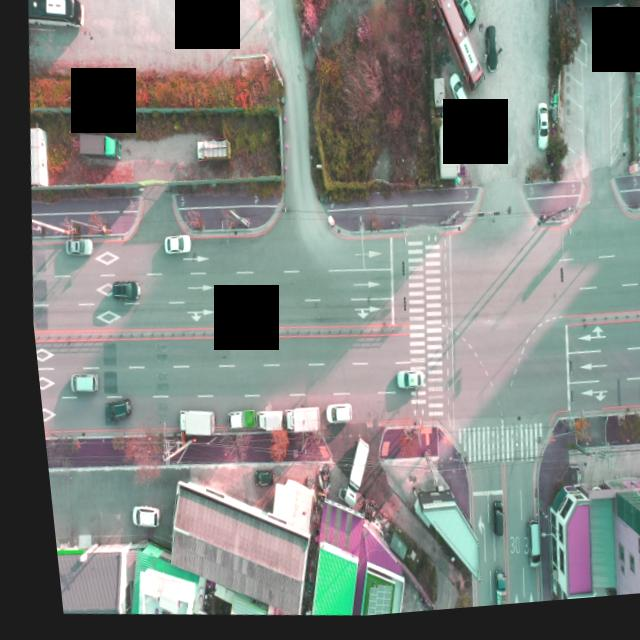car: (477, 30, 500, 82), (448, 0, 478, 39), (510, 524, 531, 578), (444, 76, 469, 121), (118, 503, 149, 529), (529, 109, 546, 156), (104, 278, 136, 301), (314, 406, 344, 430), (475, 505, 493, 545), (157, 234, 186, 258), (387, 371, 417, 394), (96, 396, 124, 420), (61, 371, 89, 395), (58, 236, 87, 258), (242, 470, 262, 490)
large_bus: (422, 0, 489, 104), (24, 0, 87, 33)
medium_truck: (325, 433, 365, 522), (71, 129, 120, 163), (167, 407, 208, 441), (270, 405, 312, 438)
small_truck: (191, 137, 229, 168), (473, 567, 498, 613), (214, 407, 248, 435), (245, 409, 276, 436)
